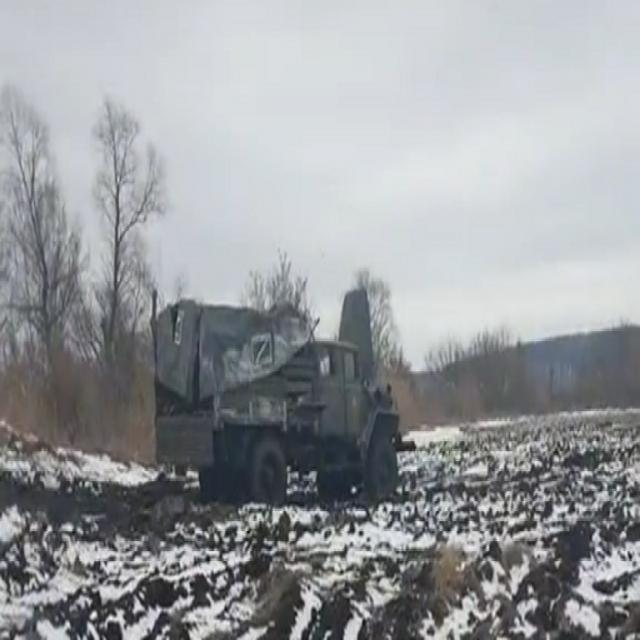TRUCK: (146, 282, 408, 507)
